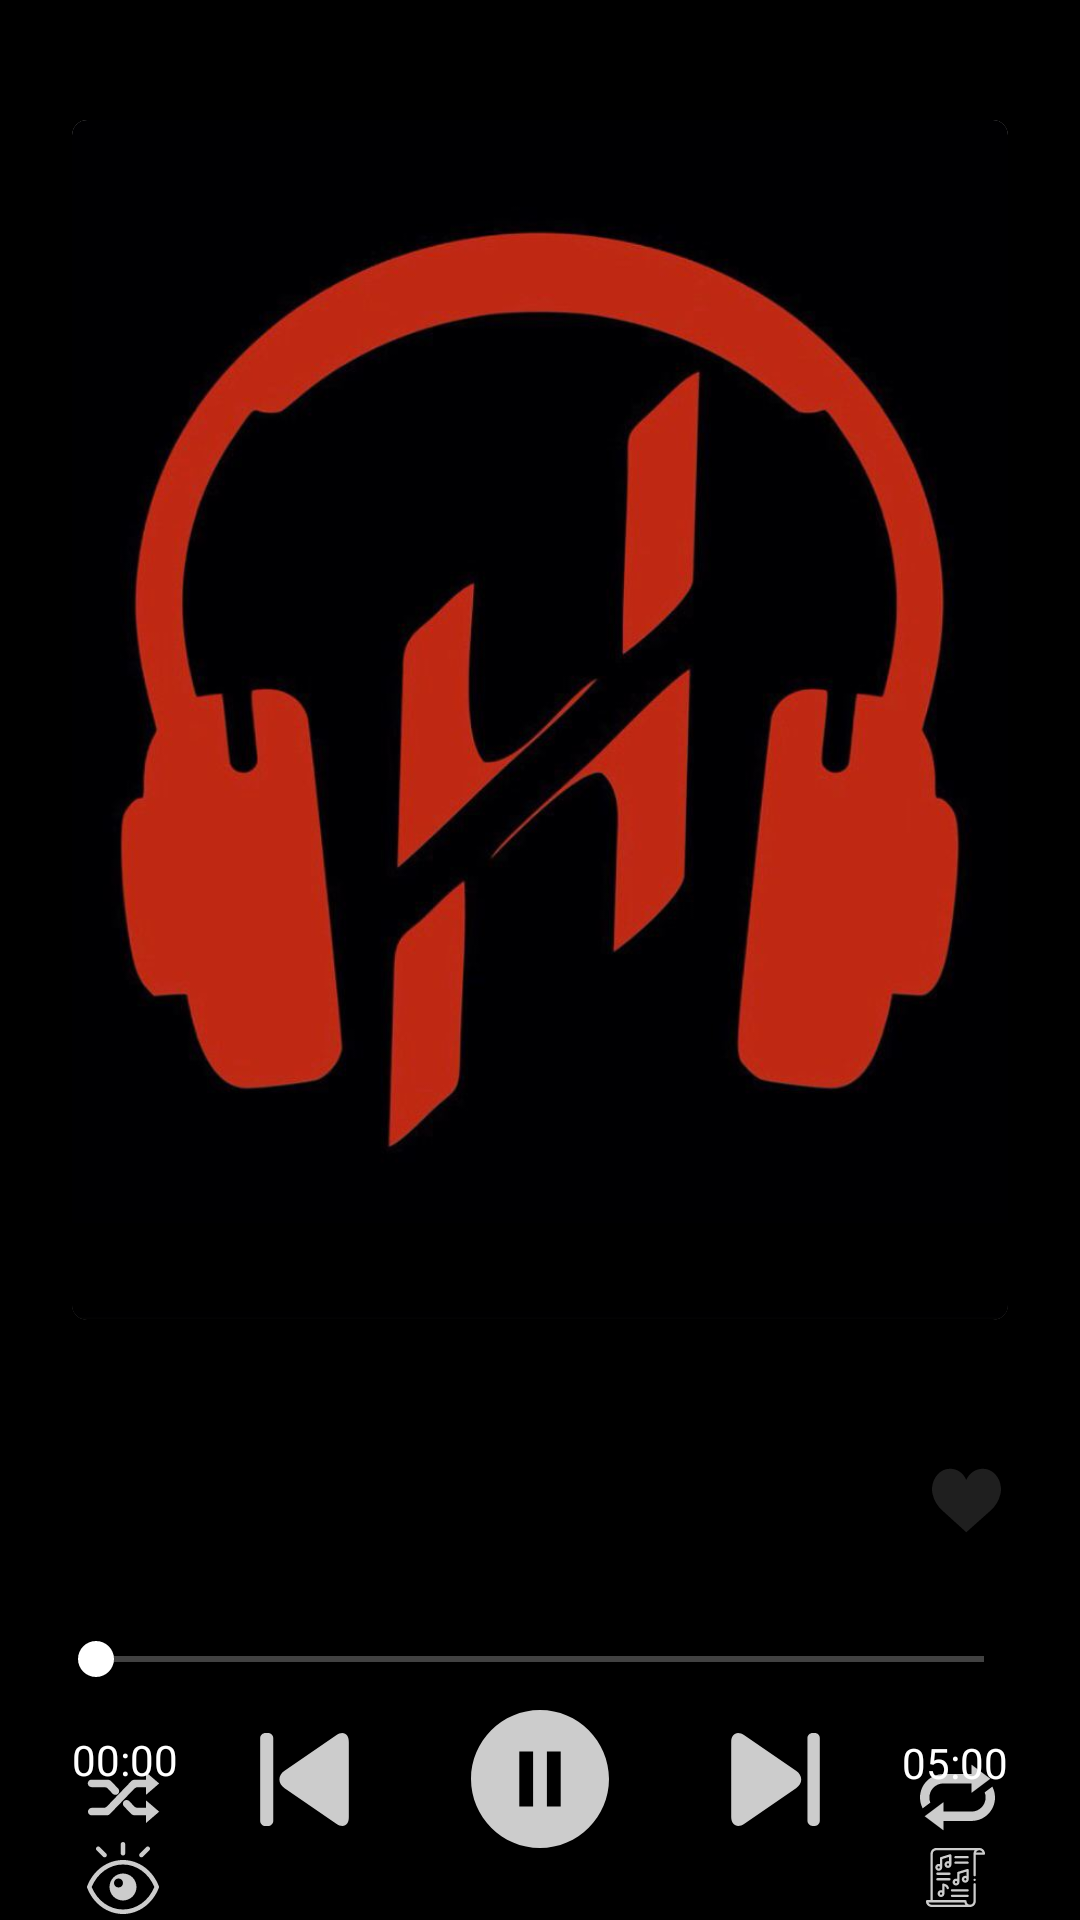

Icon click points for this 1080w x 1920h phone screenshot, format point (x, y):
favorite: point (966, 1500)
lyric: point (955, 1877)
next: point (775, 1779)
pause: point (540, 1779)
previous: point (304, 1779)
show lyric: point (123, 1878)
